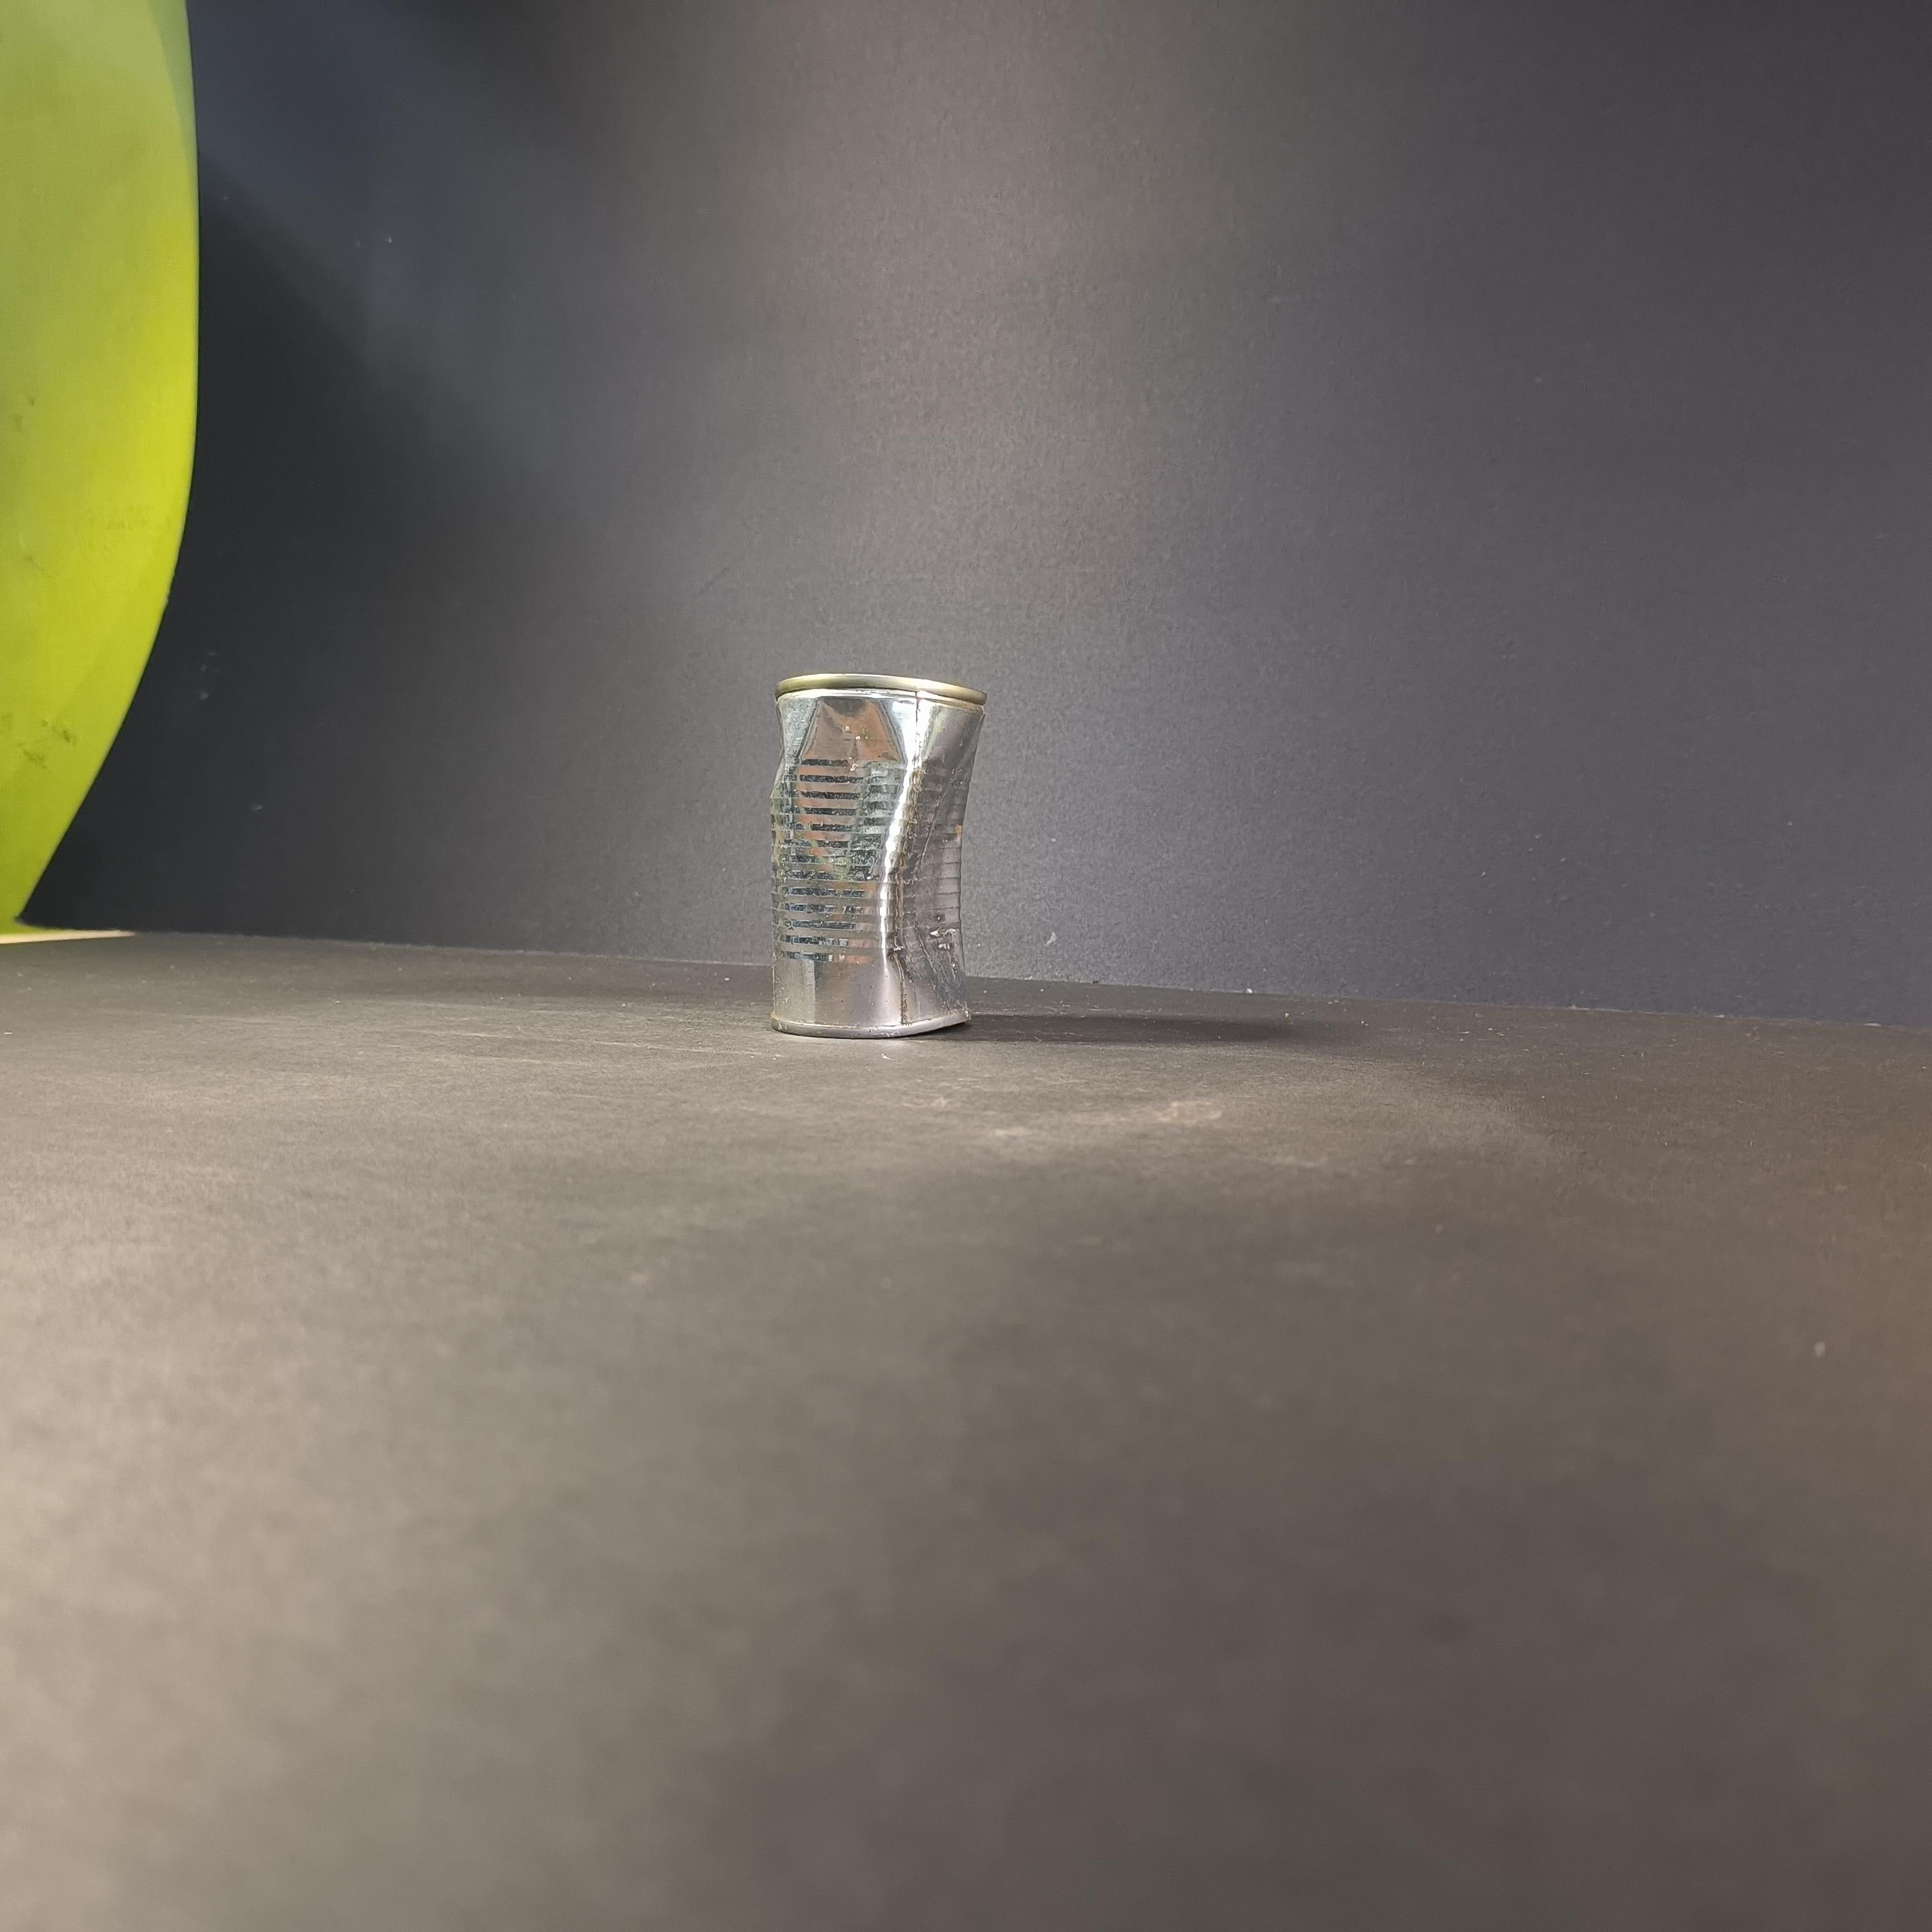Major Defect: (769, 673, 988, 1037)
